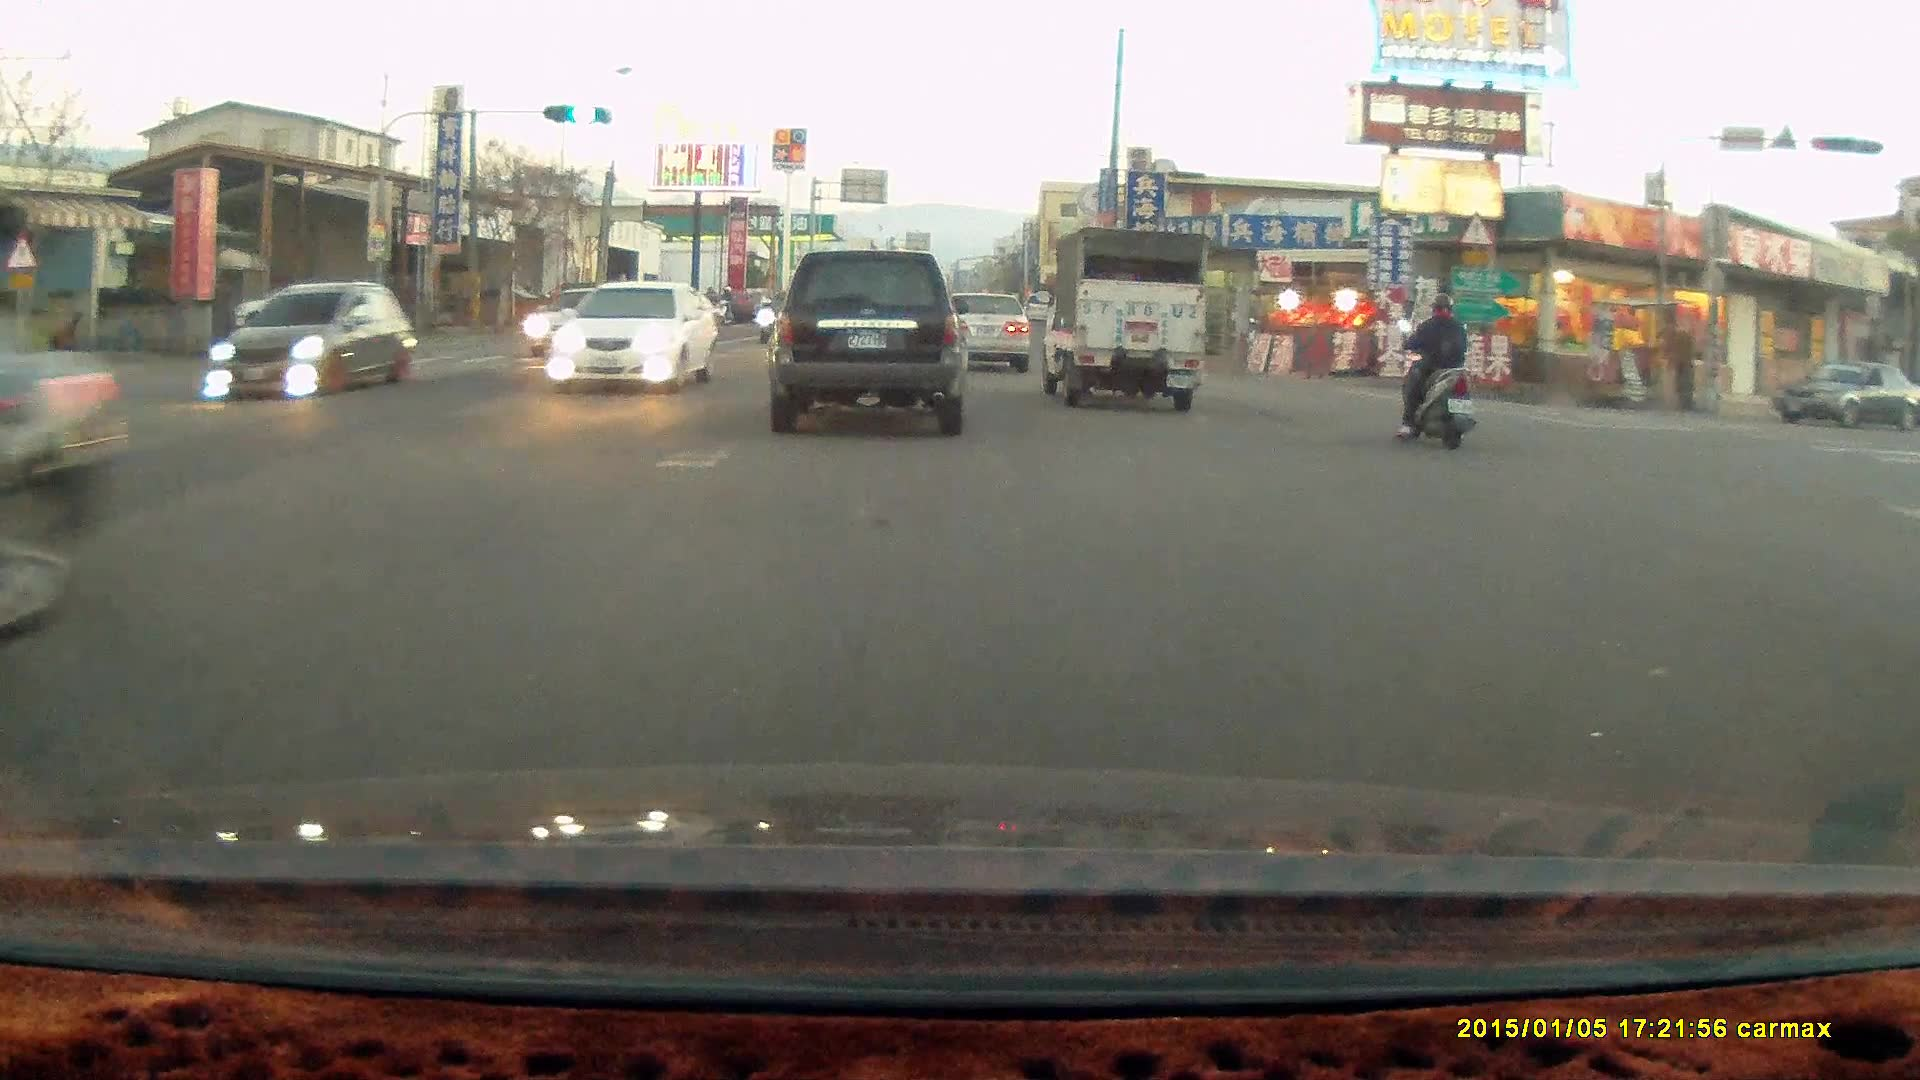rider: (1392, 289, 1478, 448)
vehicle: (767, 248, 970, 435), (1039, 226, 1209, 411), (206, 281, 420, 398), (550, 282, 720, 393), (1775, 360, 1918, 433), (530, 287, 647, 369), (932, 289, 1031, 375), (941, 293, 1035, 375), (234, 285, 372, 334)
